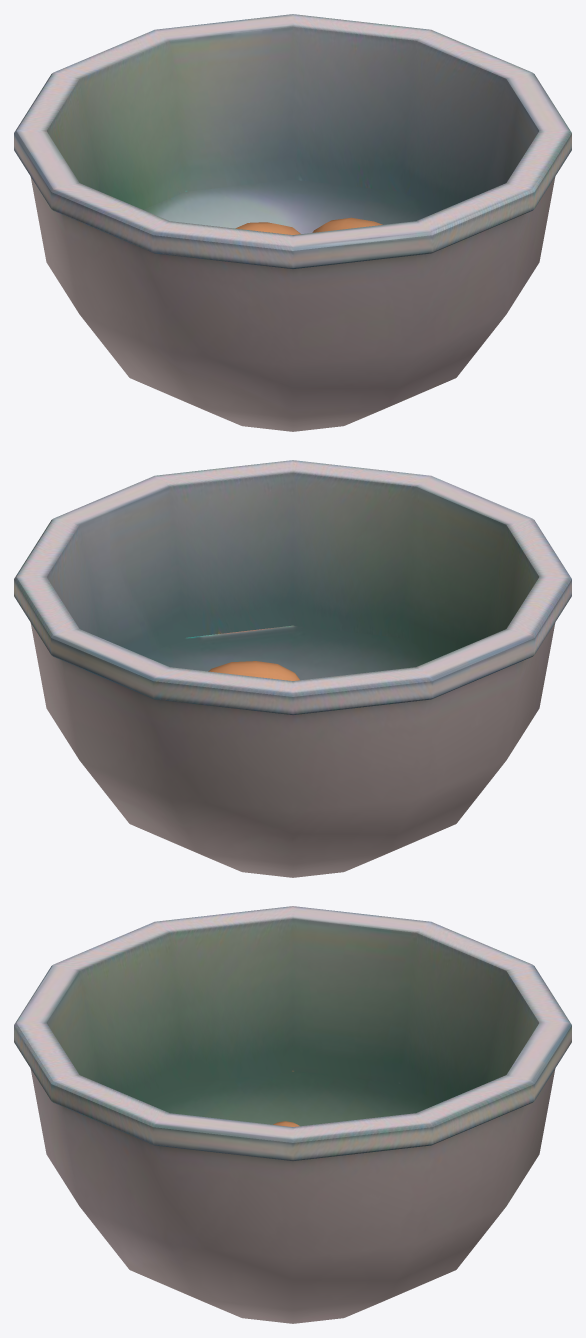
The model's file is mixingBowlSugarEggs.glb.
3 views of the same model, one above another, from view 1: azimuth 30°, elevation 25°; view 2: azimuth 150°, elevation 25°; view 3: azimuth 270°, elevation 25° (orthographic).
Parts seen in each view (by area): view 1: MixingBowl, Egg05.001; view 2: MixingBowl, Egg04.001; view 3: MixingBowl.
Boxes of the visible parts, <box> form: MixingBowl: <box>14,14,571,431</box>; Egg05.001: <box>312,217,382,232</box>; MixingBowl: <box>14,460,571,877</box>; Egg04.001: <box>208,661,299,680</box>; MixingBowl: <box>14,906,571,1323</box>.
Size of the model in its own units: 0.3931 by 0.2142 by 0.3931.
Materials: 3 (3 with a texture image).
